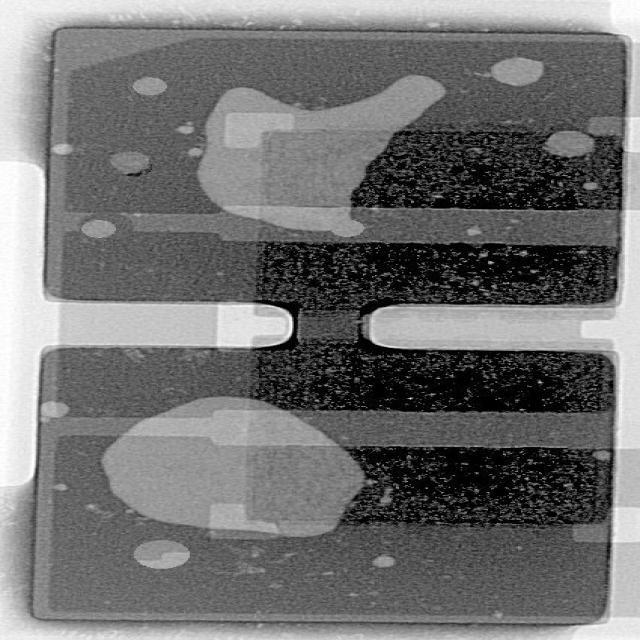chip: (29, 27, 630, 624)
void: (197, 75, 445, 236), (101, 398, 364, 536), (482, 57, 544, 86), (133, 540, 189, 569), (543, 131, 594, 157), (110, 152, 151, 176), (132, 76, 167, 96), (80, 220, 116, 238), (41, 400, 69, 418), (373, 554, 396, 568), (51, 143, 72, 155), (592, 450, 609, 462)
